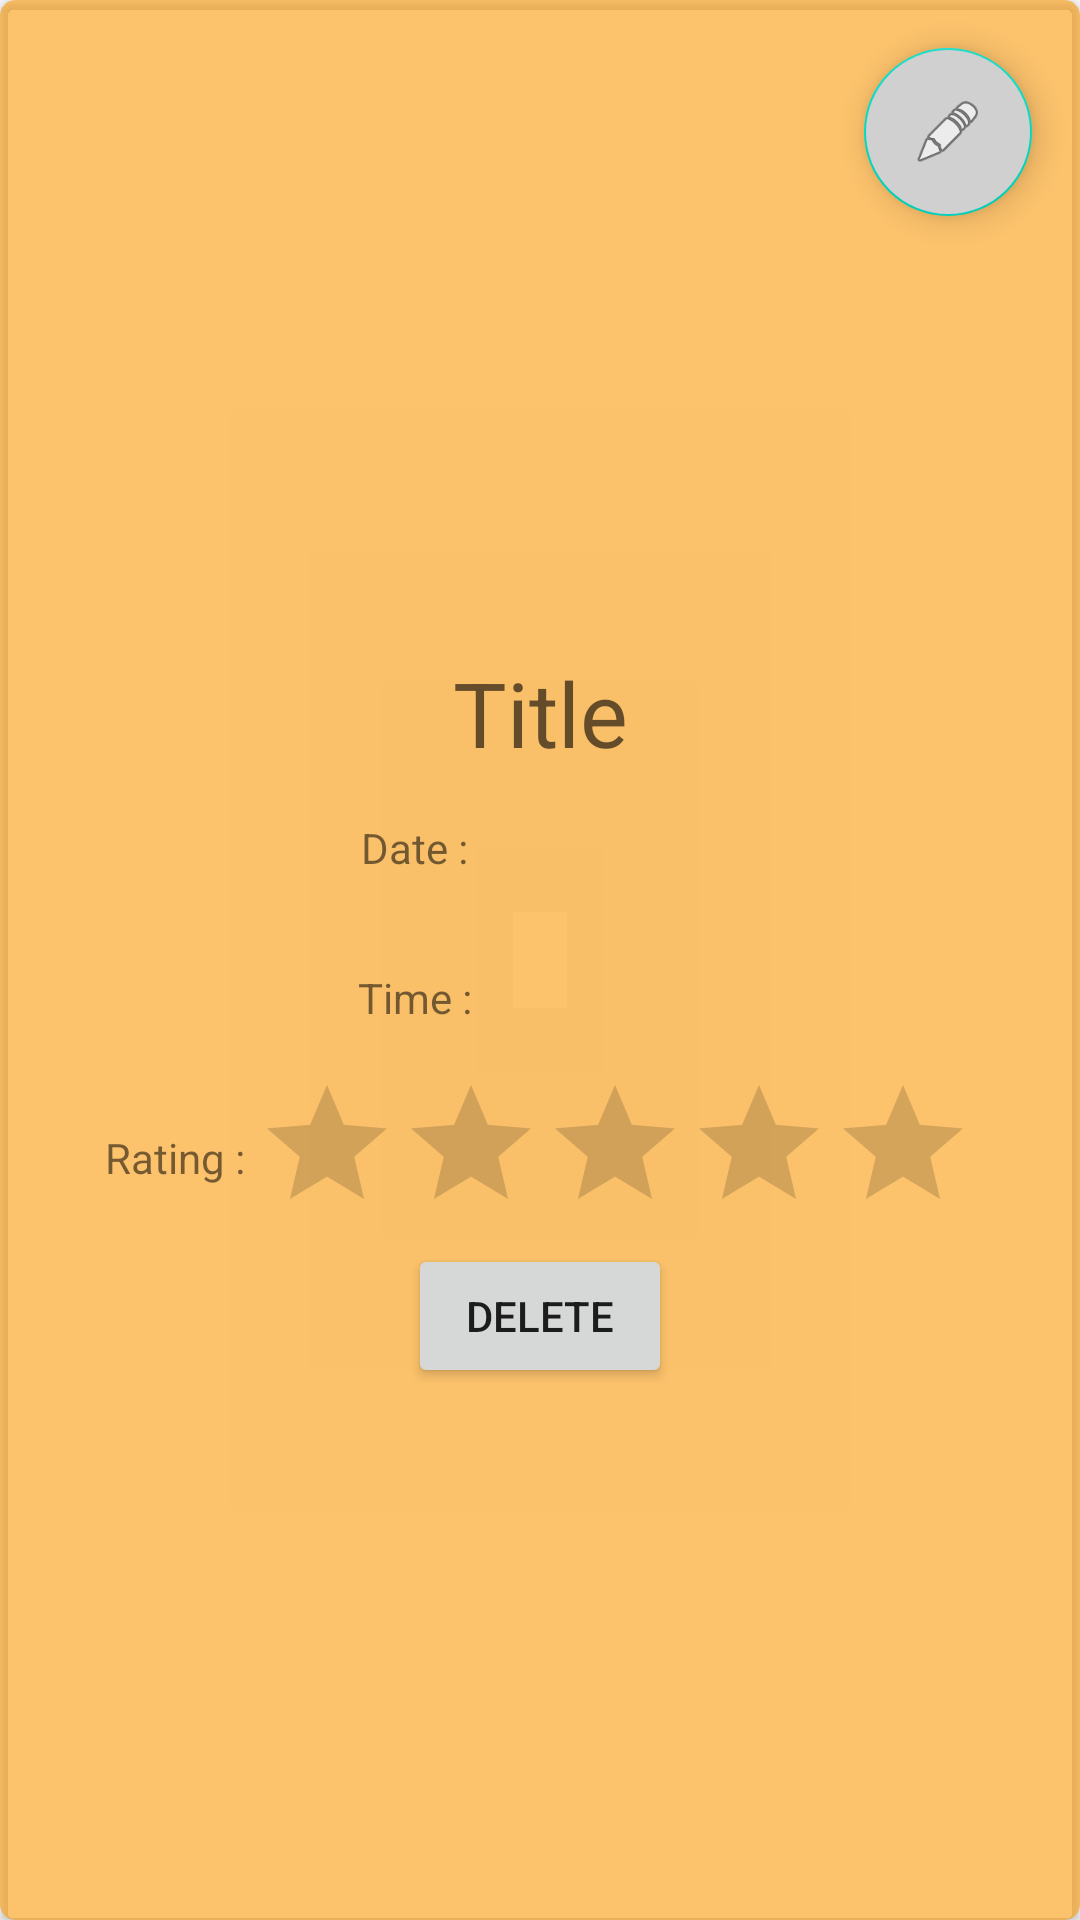

Screen size 1080px x 1920px. Icon name, then its box in pixels as (x1, y1, x2, y2):
edit: (864, 48, 1032, 216)
